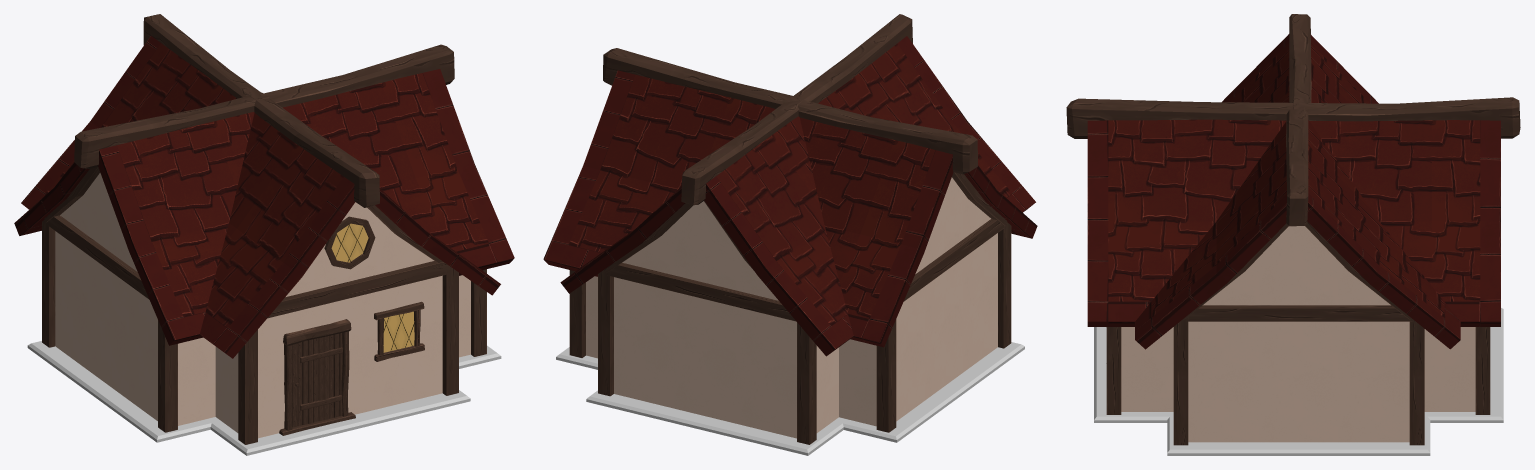
The model's file is HouseE.fbx.
3 renders of one model, left to right at view 1: azimuth 30°, elevation 25°; view 2: azimuth 150°, elevation 25°; view 3: azimuth 270°, elevation 25°, orthographic. The views are drawn at different scales.
Visible parts, largest first — view 1: House.009; view 2: House.009; view 3: House.009.
Boxes of the visible parts, x1,y1,x2,y2 form: House.009: (14, 14, 514, 455); House.009: (543, 14, 1037, 455); House.009: (1066, 14, 1520, 455).
Bounding box in the file's own units: 14.25 × 9.58 × 14.76.
